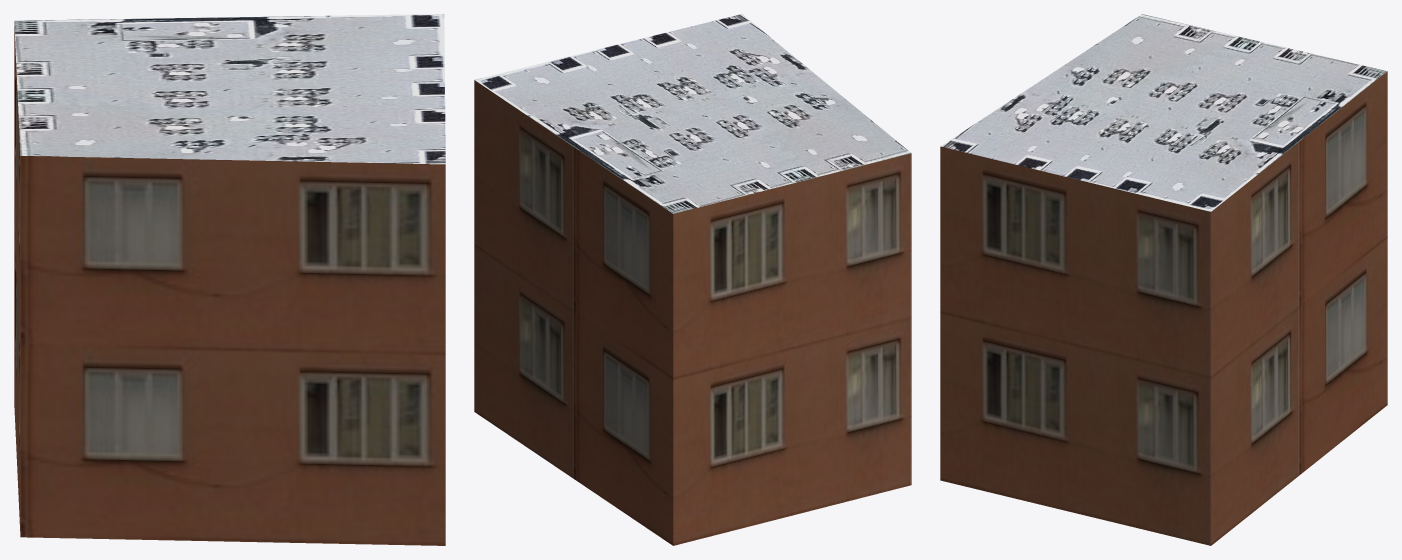
Rendered from ResTex__369.fbx.
3 views of the same model, side by side, from view 1: azimuth 30°, elevation 25°; view 2: azimuth 150°, elevation 25°; view 3: azimuth 270°, elevation 25° (orthographic). The views are drawn at different scales.
Visible parts, largest first — view 1: CityEngineMaterial_20_m, CityEngineMaterial_4_m; view 2: CityEngineMaterial_20_m, CityEngineMaterial_4_m; view 3: CityEngineMaterial_20_m, CityEngineMaterial_4_m.
Part boxes in pixels (<box>): CityEngineMaterial_20_m: <box>14,27,445,545</box>; CityEngineMaterial_4_m: <box>14,14,445,164</box>; CityEngineMaterial_20_m: <box>474,80,911,545</box>; CityEngineMaterial_4_m: <box>475,14,911,213</box>; CityEngineMaterial_20_m: <box>940,71,1387,545</box>; CityEngineMaterial_4_m: <box>941,14,1386,211</box>.
Size of the model in its own units: 7.63 by 6 by 7.28.
Materials: 2 (2 with a texture image).
